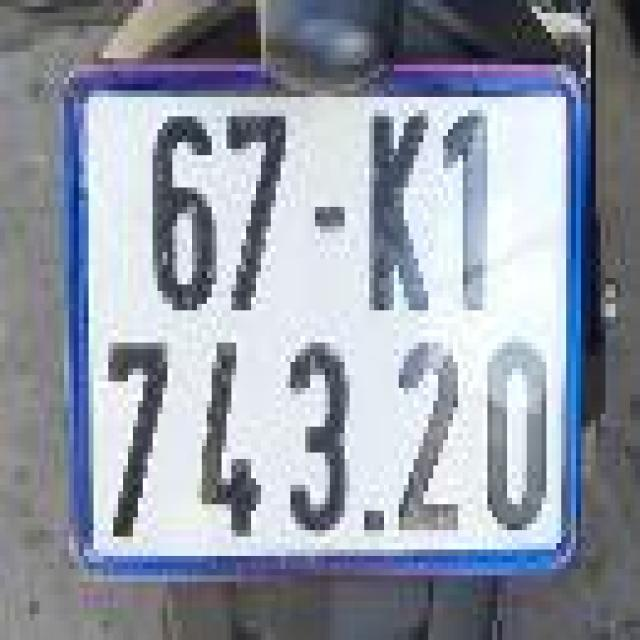0: (473, 333, 556, 553)
1: (440, 103, 504, 330)
2: (392, 333, 466, 533)
3: (283, 336, 352, 530)
4: (192, 333, 271, 533)
6: (140, 106, 234, 314)
7: (89, 317, 177, 543), (222, 100, 296, 320)
K: (359, 94, 438, 326)
